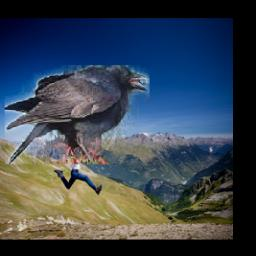Crow: (6, 66, 151, 165)
